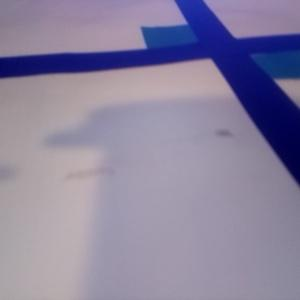bottom_right: (226, 39, 300, 78)
top_left: (140, 23, 222, 55)
